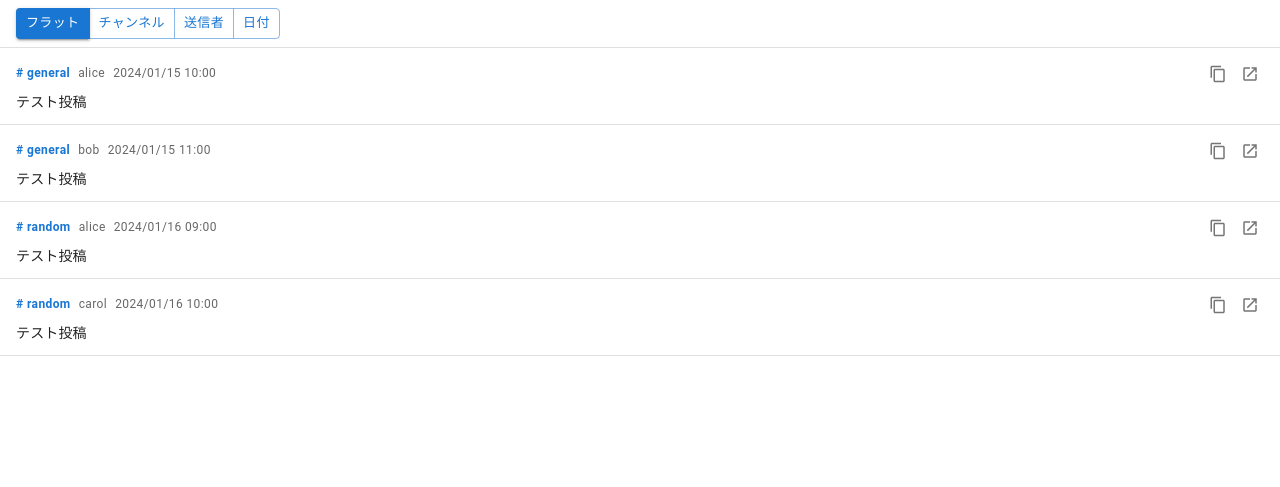
Scenario: 検索結果グルーピング › 送信者別グルーピング › 送信者別選択時、各送信者のヘッダーが表示される
Step 1. Click the button "送信者" → (204, 23), box left=174, top=8, right=234, bottom=39
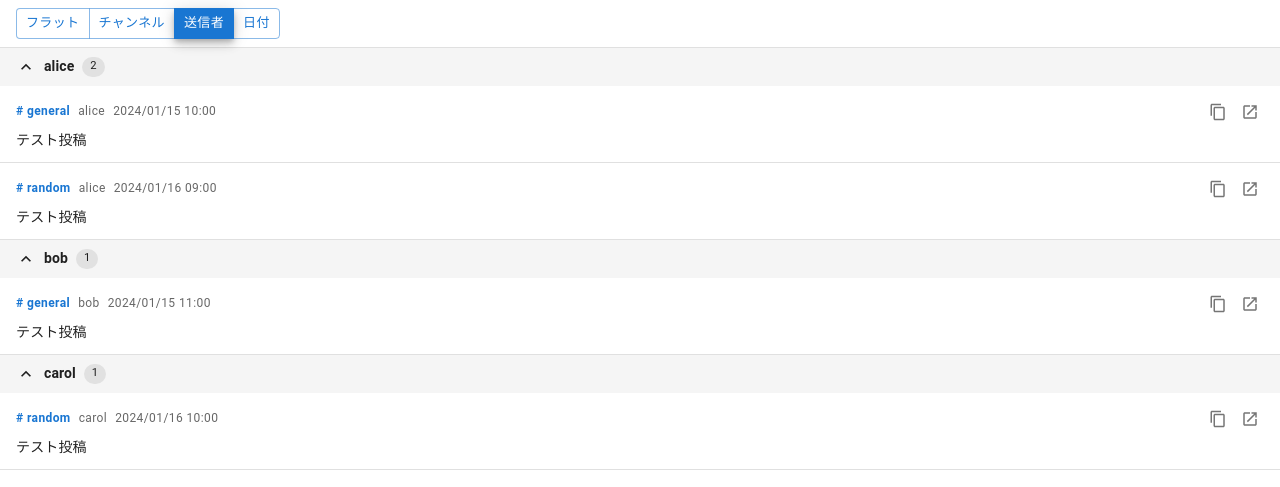
expect the number of elements with test id "group-header" is 3: met, box left=0, top=48, right=1279, bottom=86; left=0, top=240, right=1279, bottom=278; left=0, top=355, right=1279, bottom=393
